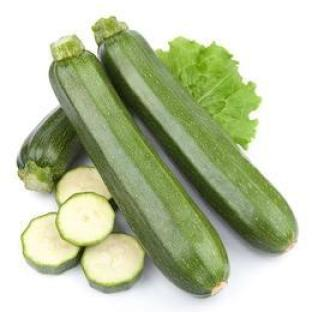Zucchini: (93, 18, 297, 251), (50, 36, 229, 296), (17, 108, 80, 191), (81, 233, 145, 292), (22, 213, 80, 273), (57, 192, 115, 245), (56, 166, 111, 205)
